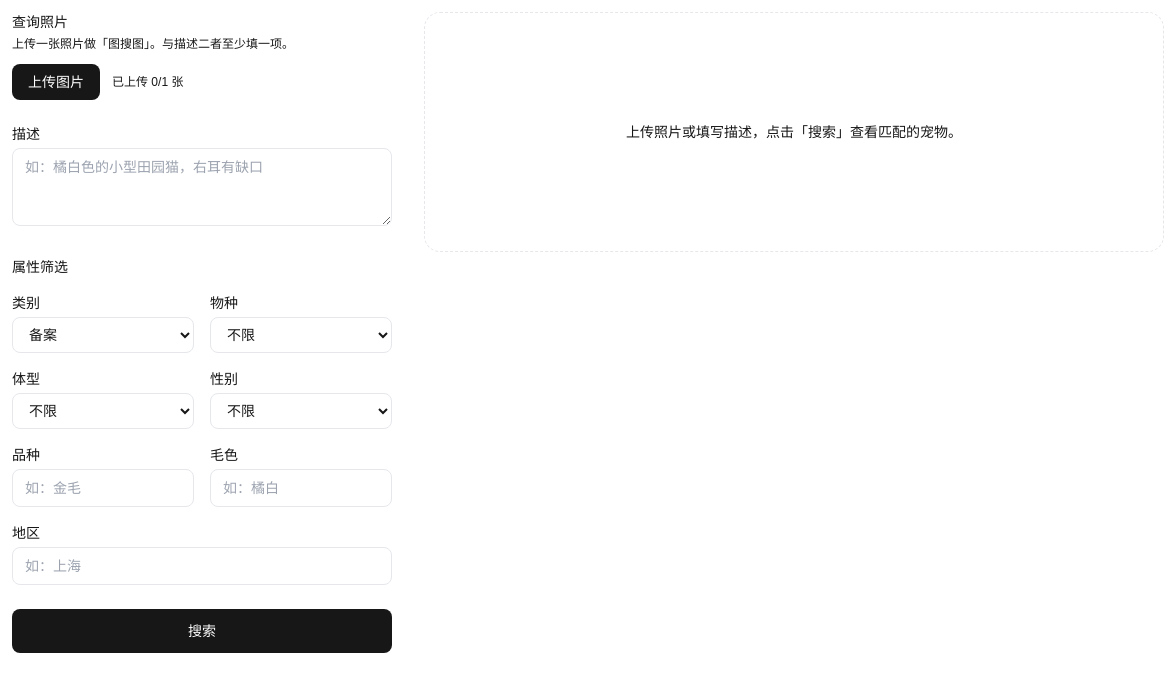
Test: SearchForm › displays error message when the search fails with a 400 validation error
The image size is (1164, 700).
Type "orange tabby" into the text box labelled "描述".
click(202, 187); type("orange tabby")  # box top-left (12, 148), bottom-right (392, 226)
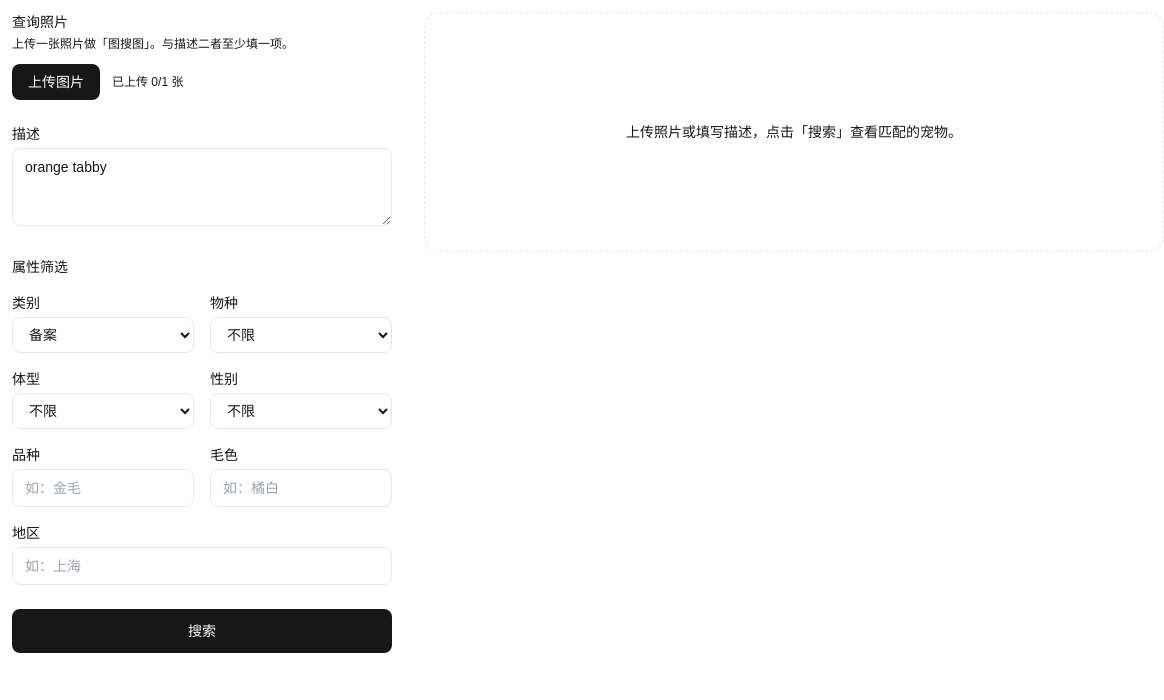
Click the button "搜索".
click(202, 631)  # box top-left (12, 609), bottom-right (392, 653)
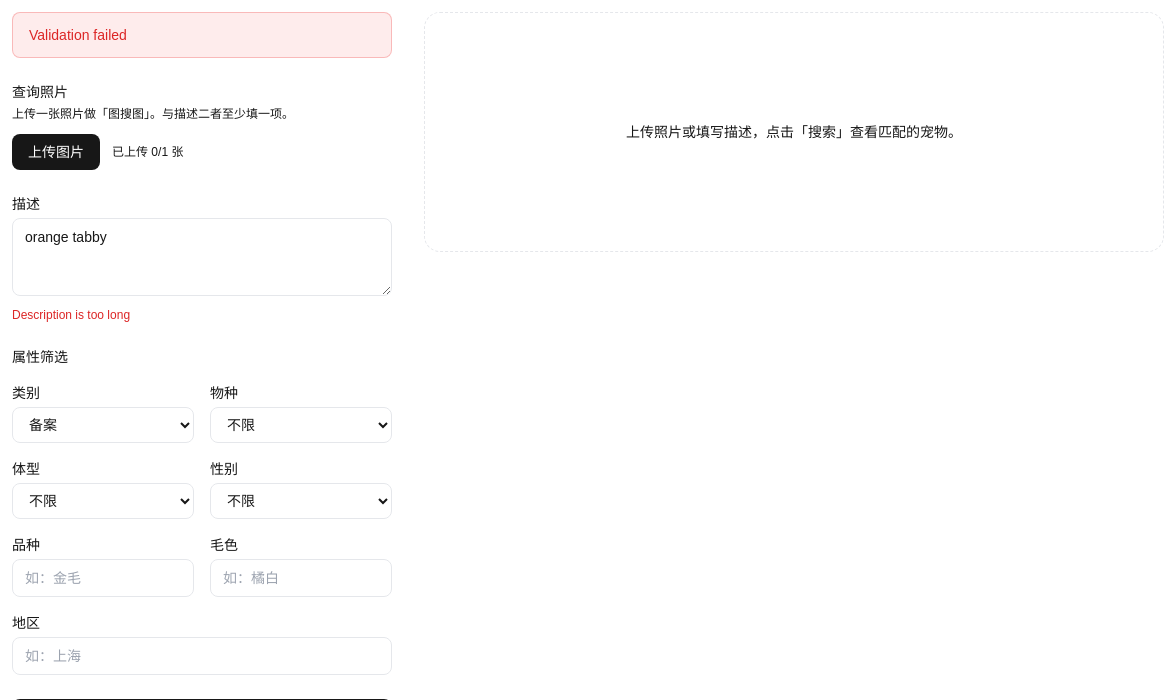
Expected: the message "Validation failed" is shown, top-left (12, 12), bottom-right (392, 58)
Expected: the message reads "Validation failed", top-left (29, 27), bottom-right (127, 43)
